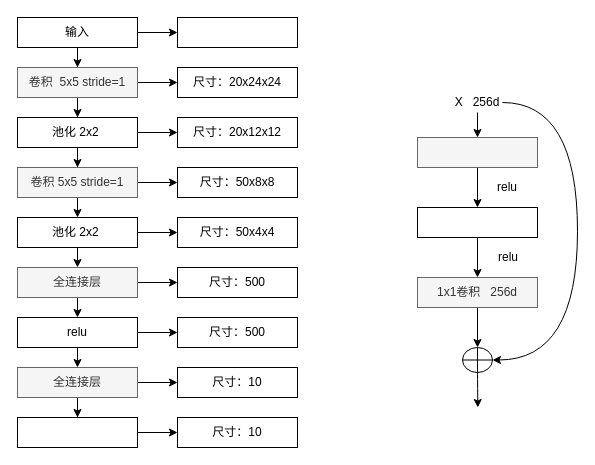
This 595x465 diagram has some shape labels left out. Each missing label, with the centre of its shape:
1x1卷积 64d: the point at 477,152
3x3卷积 64d: the point at 477,222
softmax: the point at 77,432
尺寸：1x28x28: the point at 237,32
